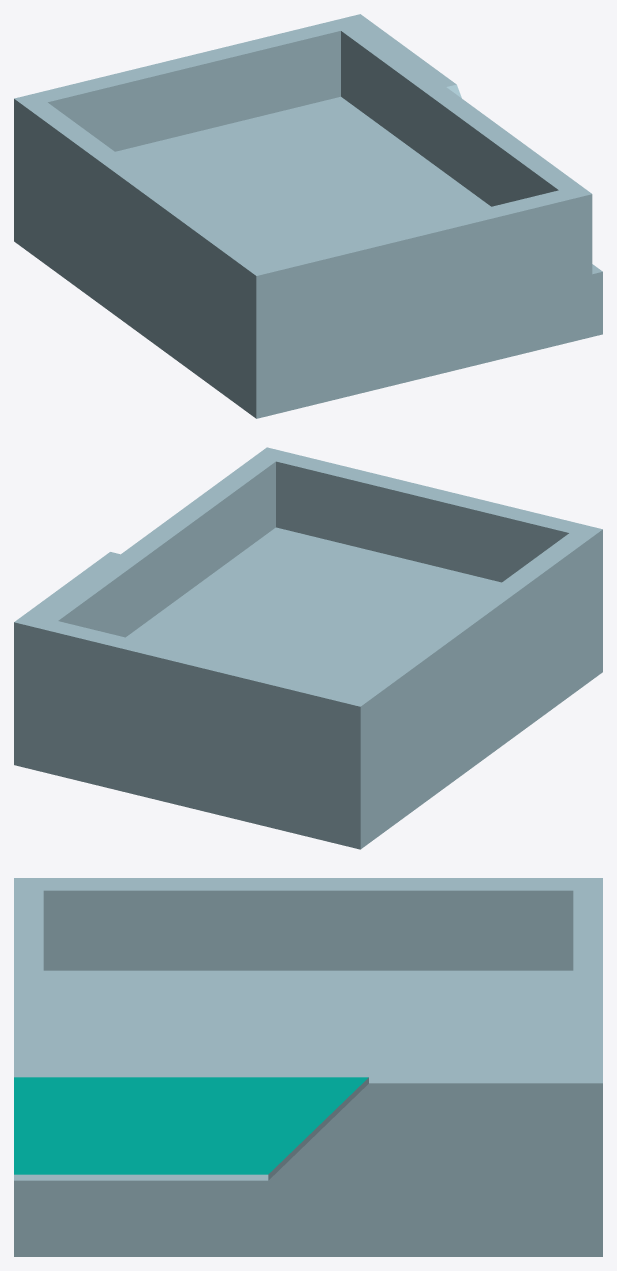
The model's file is vase-07.fbx.
3 views of the same model, one above another, from view 1: azimuth 30°, elevation 25°; view 2: azimuth 150°, elevation 25°; view 3: azimuth 270°, elevation 25° (orthographic). The views are drawn at different scales.
Visible parts, largest first — view 1: vase-07; view 2: vase-07; view 3: vase-07.
Part boxes in pixels (x1,y1,x2,y2): vase-07: (14, 14, 602, 418); vase-07: (14, 447, 602, 849); vase-07: (14, 878, 602, 1256).
Bounding box in the file's own units: 16.5 × 6.5 × 20.
